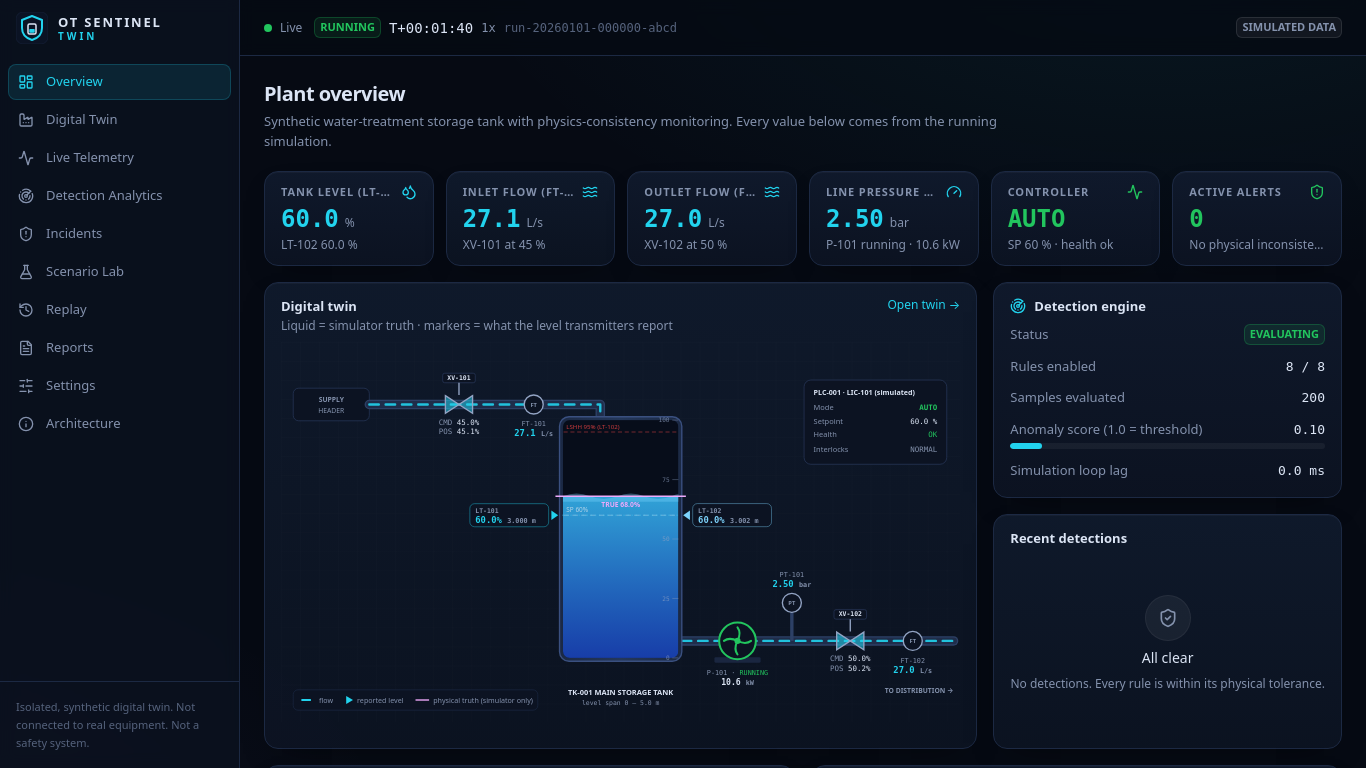
Test: navigation › sidebar links navigate between pages
Click the link "Scenario Lab".
click(71, 271)  # box [18,262,124,280]
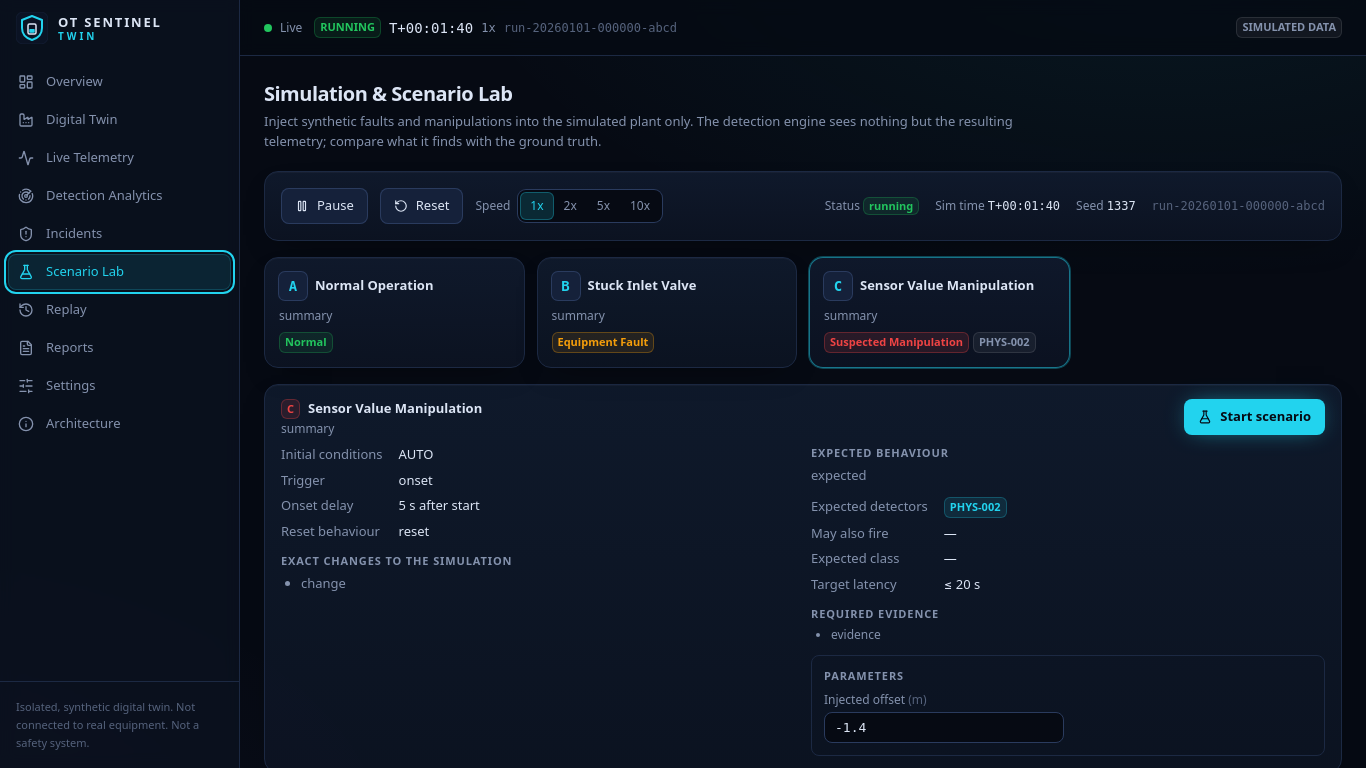
Result: the heading "Simulation & Scenario Lab" is shown at [264,80,512,107]
